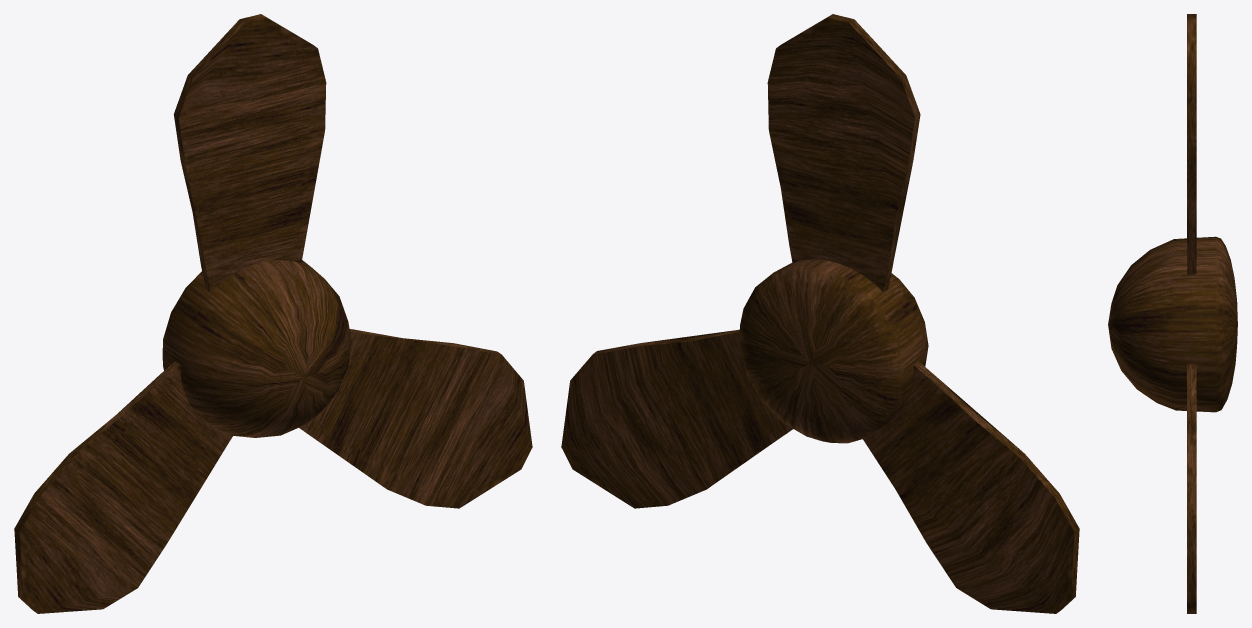
The model's file is WoodFan.obj.
3 views of the same model, side by side, from view 1: azimuth 30°, elevation 25°; view 2: azimuth 150°, elevation 25°; view 3: azimuth 270°, elevation 25° (orthographic). The views are drawn at different scales.
Visible parts, largest first — view 1: GeoSphere001; view 2: GeoSphere001; view 3: GeoSphere001.
Part boxes in pixels (box(x1,y1,x2,y2)): GeoSphere001: box(14, 14, 532, 613); GeoSphere001: box(561, 14, 1079, 613); GeoSphere001: box(1108, 14, 1237, 613).
Bounding box in the file's own units: 16.99 × 17.46 × 4.03.
1 material, 1 textured.
